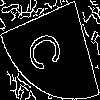C: (25, 25, 70, 75)
